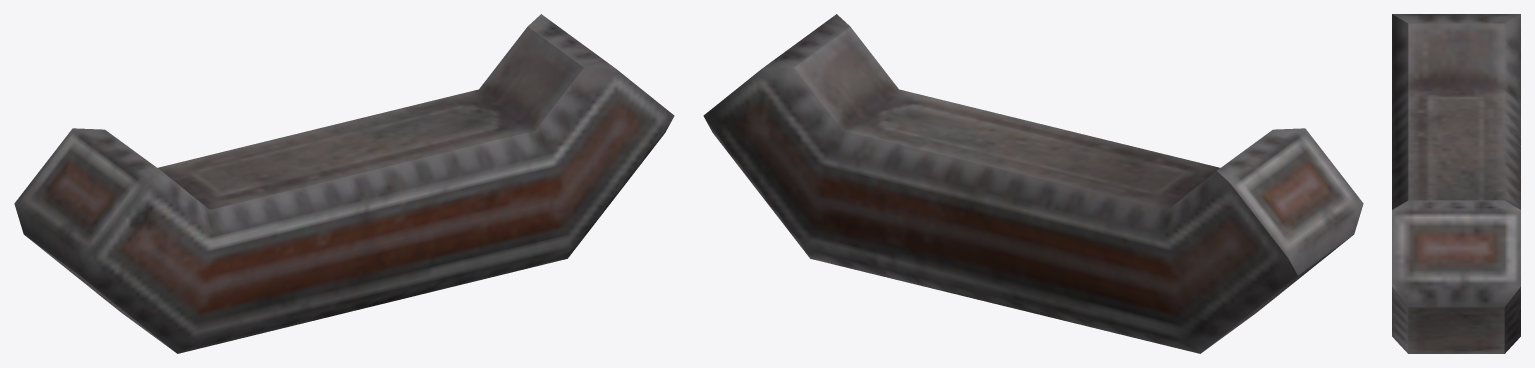
The model's file is sm_dwarf_iron_sword_guard_b.fbx.
3 renders of one model, left to right at view 1: azimuth 30°, elevation 25°; view 2: azimuth 150°, elevation 25°; view 3: azimuth 270°, elevation 25°, orthographic. The views are drawn at different scales.
Visible parts, largest first — view 1: sm_dwarf_iron_sword_guard_b; view 2: sm_dwarf_iron_sword_guard_b; view 3: sm_dwarf_iron_sword_guard_b.
Part boxes in pixels (box(x1,y1,x2,y2)): sm_dwarf_iron_sword_guard_b: box(14, 14, 674, 353); sm_dwarf_iron_sword_guard_b: box(703, 14, 1363, 353); sm_dwarf_iron_sword_guard_b: box(1392, 14, 1520, 353).
Size of the model in its own units: 0.18 by 0.04 by 0.055.
1 material, 1 textured.
